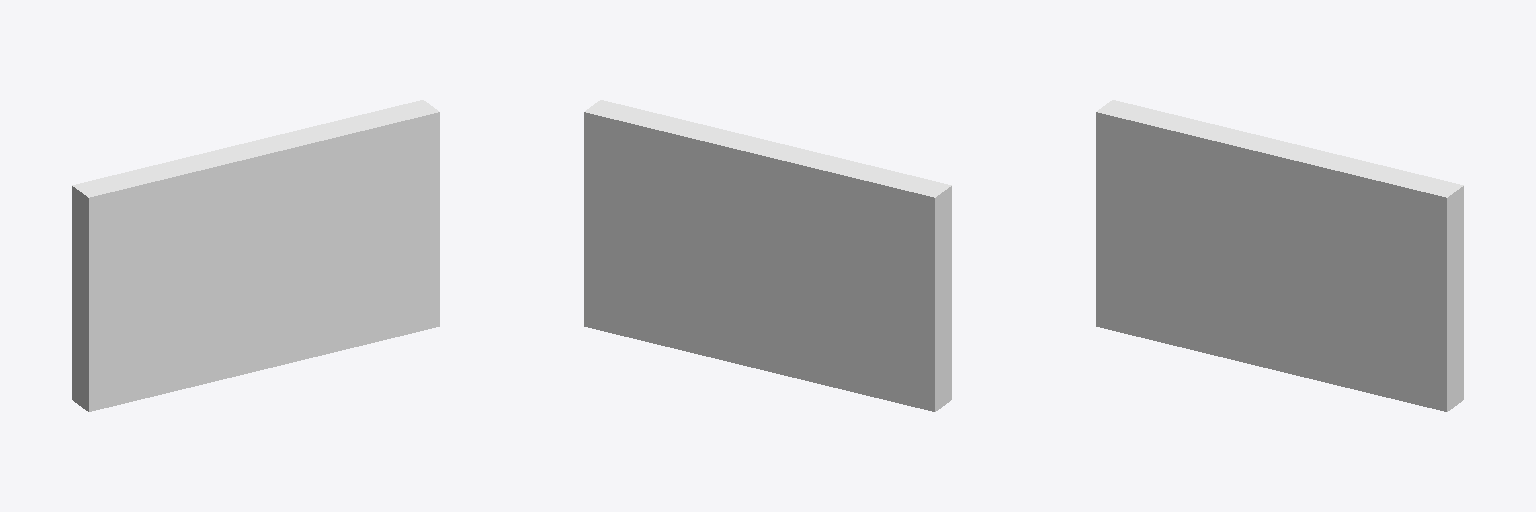
File: tavern-37-painting.obj
The picture shows the model from 3 angles: view 1: azimuth 30°, elevation 25°; view 2: azimuth 150°, elevation 25°; view 3: azimuth 330°, elevation 25°; orthographic projection.
Parts seen in each view (by area): view 1: painting; view 2: painting; view 3: painting.
Boxes of the visible parts, x1,y1,x2,y2 form: painting: [72, 100, 439, 411]; painting: [584, 100, 951, 411]; painting: [1096, 100, 1463, 411].
Size of the model in its own units: 1.2 by 0.7 by 0.1.